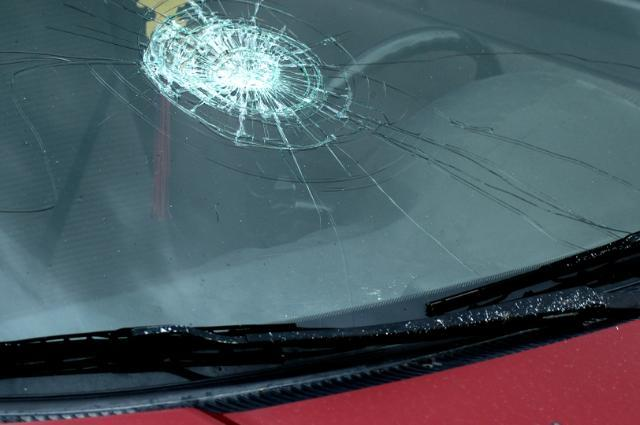Windshield: (0, 0, 640, 320)
